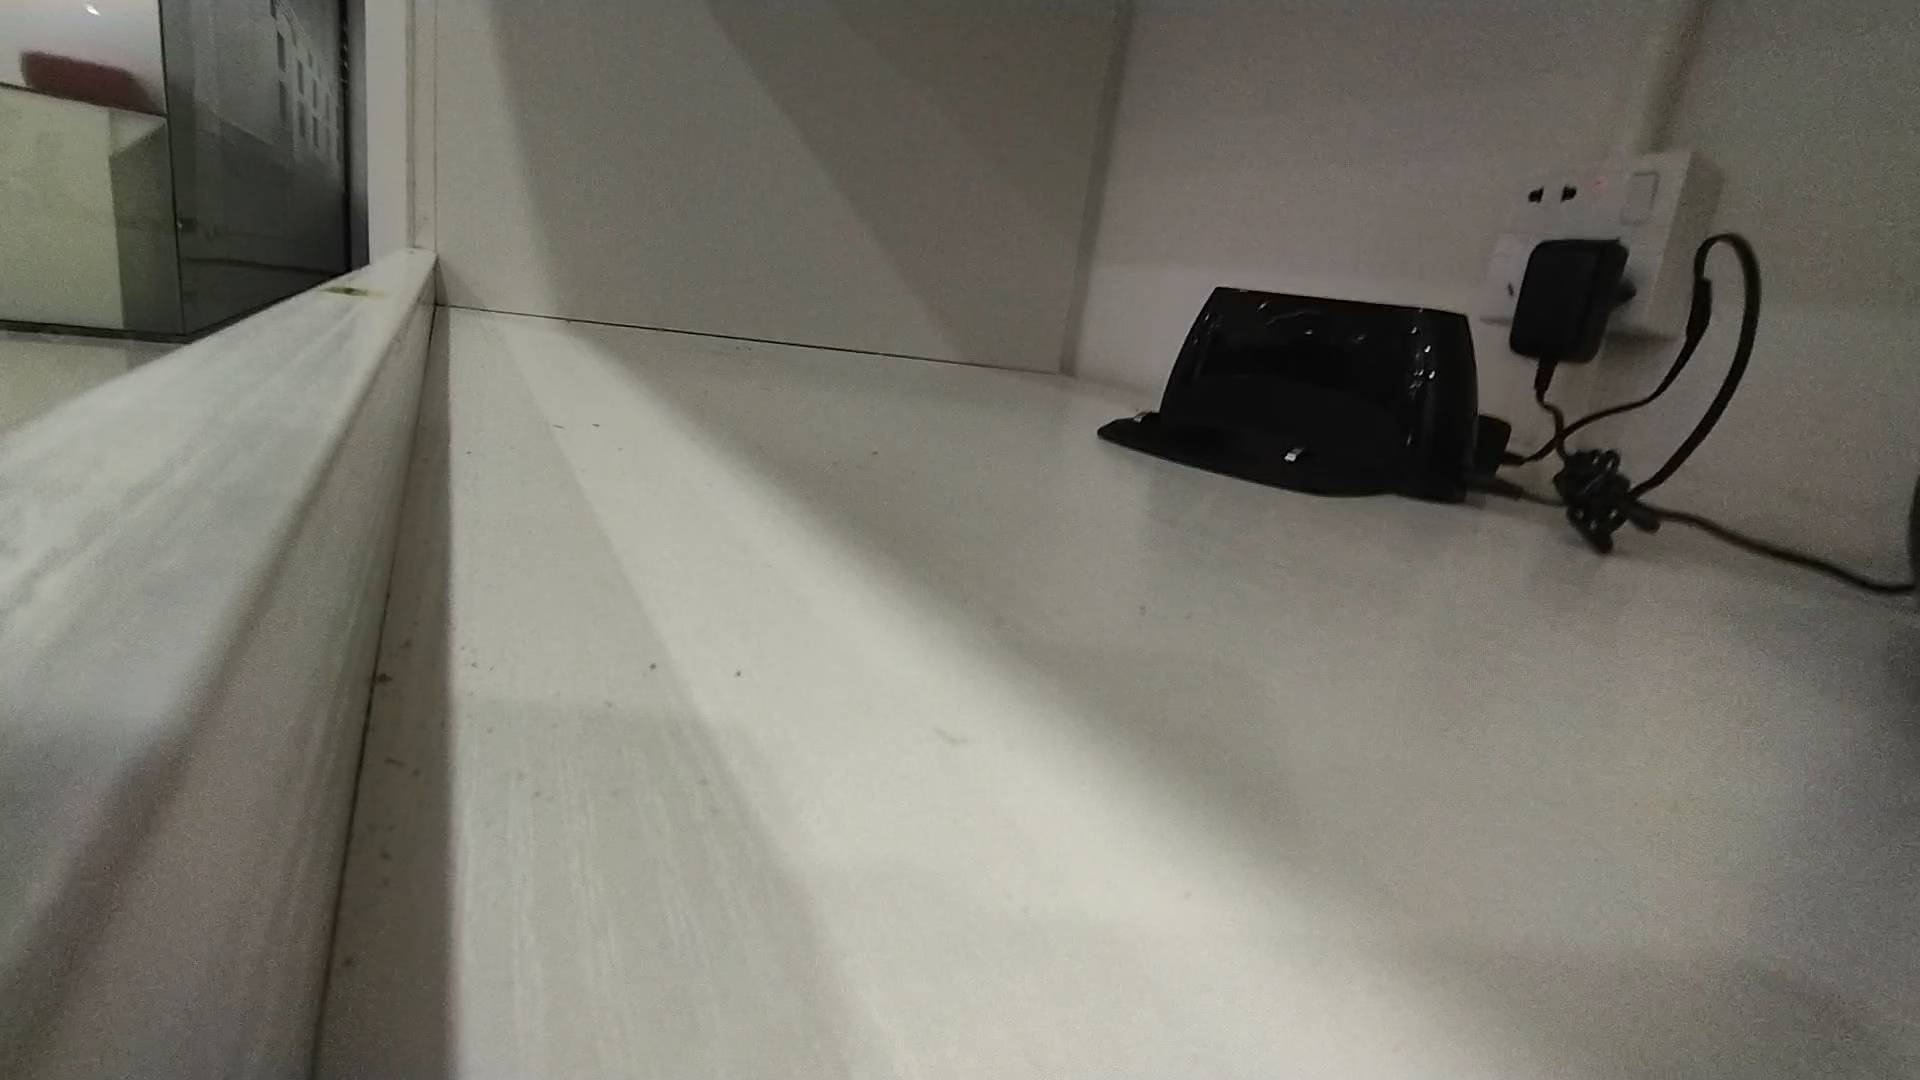recharge seat: (1098, 286, 1489, 498)
